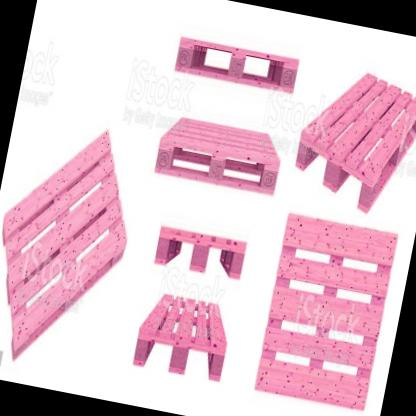BoxFace: (0, 121, 130, 364), (252, 209, 399, 416), (293, 69, 416, 216), (153, 116, 282, 193), (132, 290, 226, 383), (170, 28, 299, 95), (152, 220, 247, 286)
